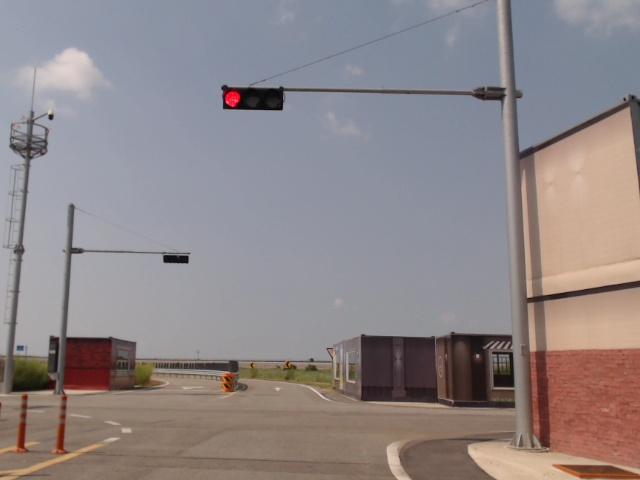red_3: (222, 88, 283, 111)
